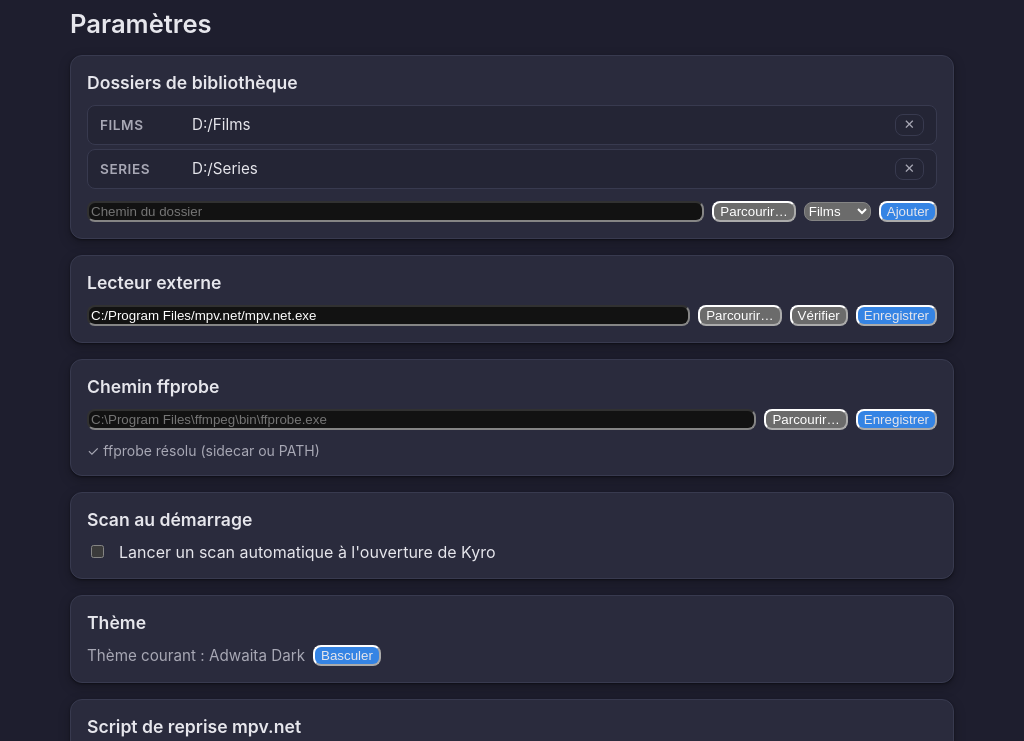
Test: /settings — section Dossiers de bibliothèque › affiche le message d'erreur du backend quand le chemin est inexistant (req. 2.4)
The width and height of the screenshot is (1024, 741).
Type "D:/Inexistant" into the field labelled "Chemin du dossier" at [396, 212], box left=87, top=201, right=704, bottom=222
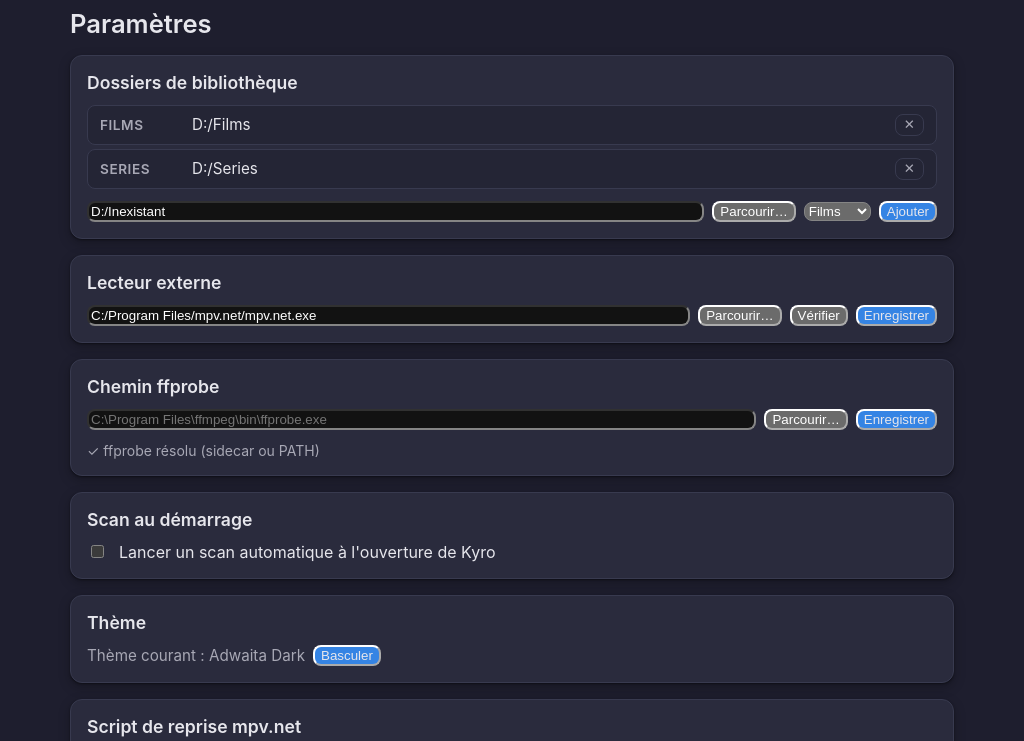
Click the button "Ajouter" at [908, 212], box left=879, top=201, right=937, bottom=222
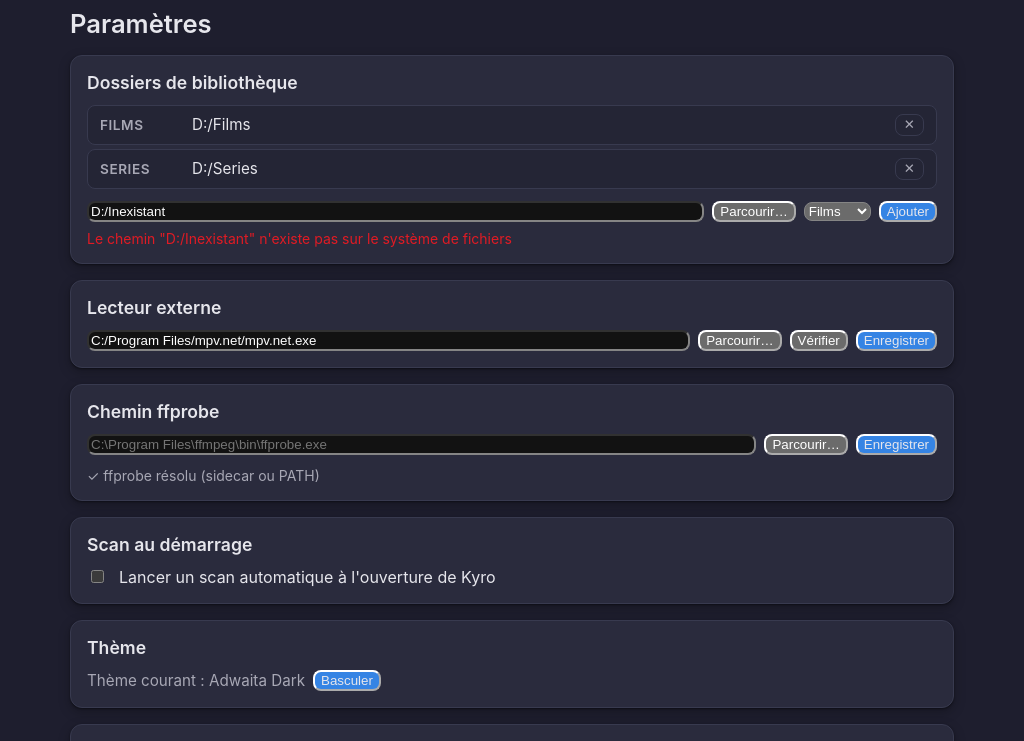
Now the message with test id "folders-error" shows "D:/Inexistant", box left=87, top=230, right=512, bottom=247
Now the message with test id "folders-error" shows "n'existe pas", box left=87, top=230, right=512, bottom=247
